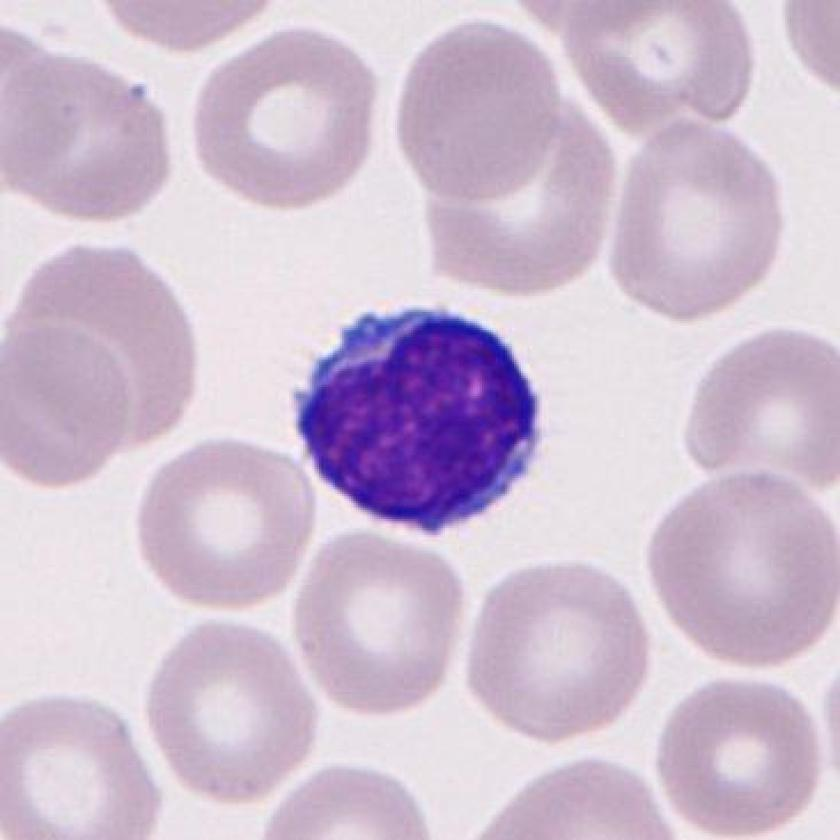lymphocyte: (276, 288, 561, 559)
